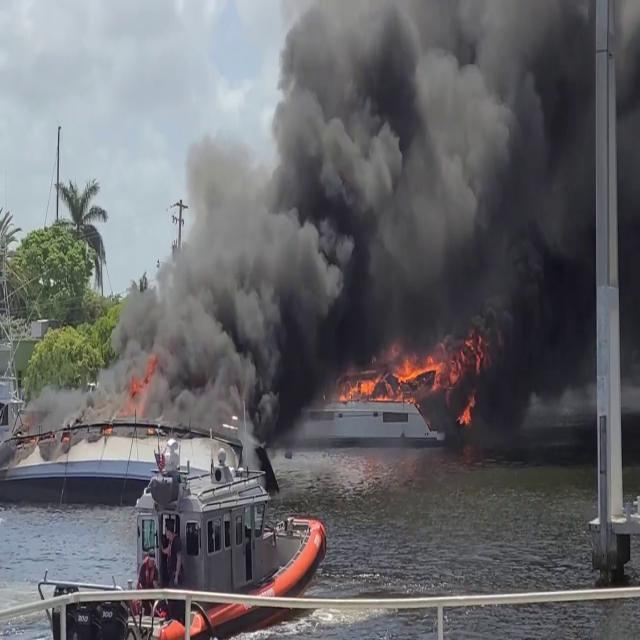Fire: (336, 347, 444, 404)
Smoke: (99, 1, 606, 440)
